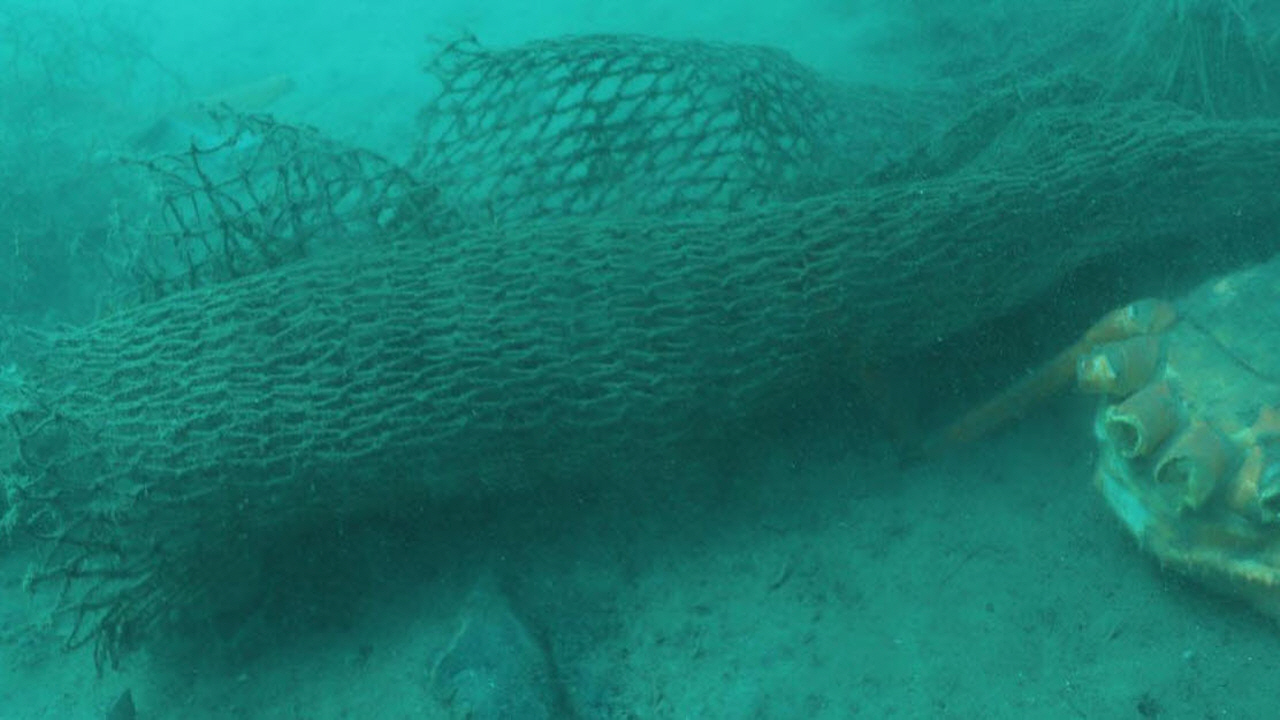fish net: (16, 35, 1280, 670)
